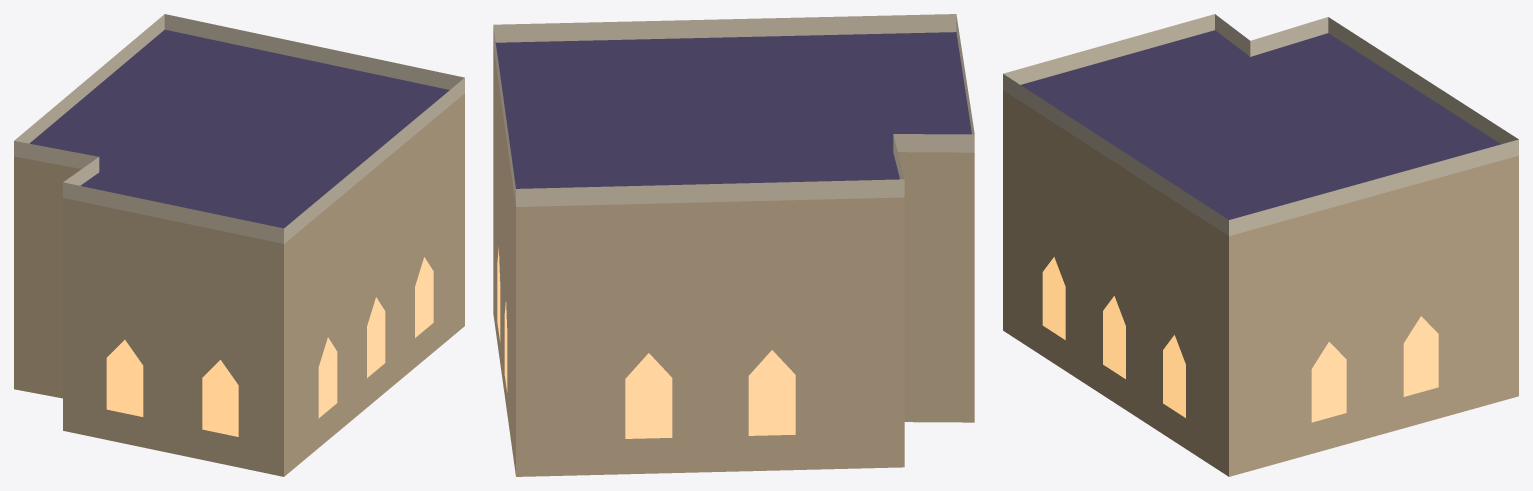
3 views of the same model, side by side, from view 1: azimuth 30°, elevation 25°; view 2: azimuth 150°, elevation 25°; view 3: azimuth 270°, elevation 25° (orthographic). The views are drawn at different scales.
Visible parts, largest first — view 1: campus/b-052-0; view 2: campus/b-052-0; view 3: campus/b-052-0.
Boxes of the visible parts, left/top/right/bottom form: campus/b-052-0: left=14, top=14, right=464, bottom=476; campus/b-052-0: left=493, top=14, right=974, bottom=476; campus/b-052-0: left=1003, top=14, right=1518, bottom=476.
Bounding box in the file's own units: 15.06 × 8.75 × 15.93.
